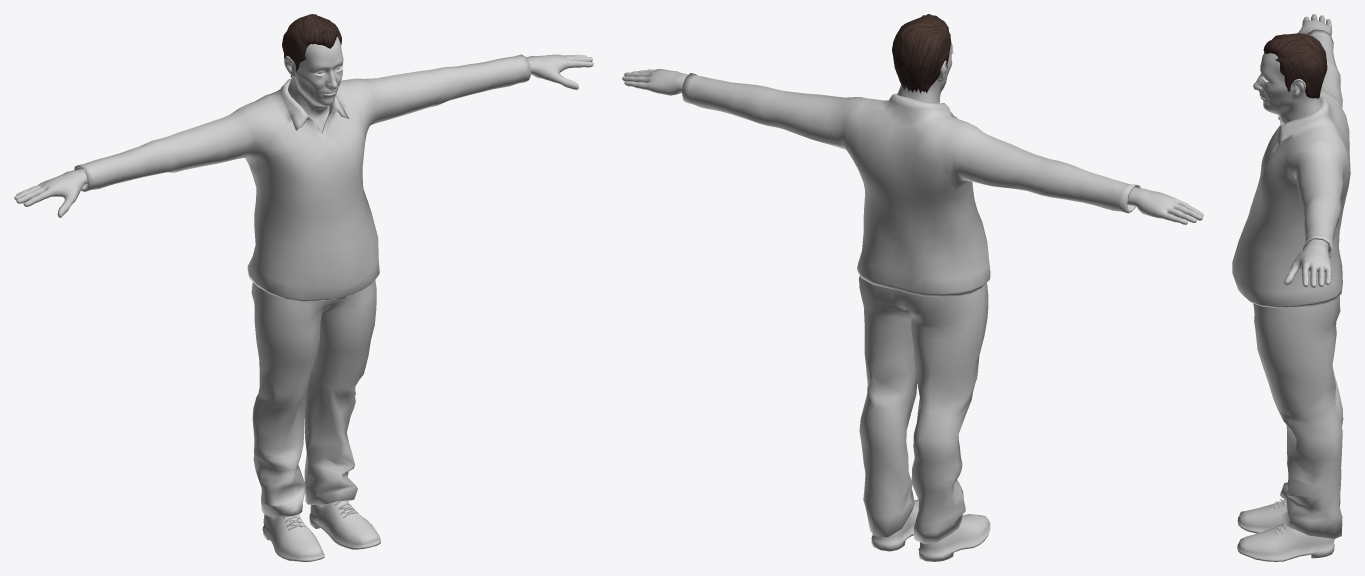
Rendered from A_M_Elegante.obj.
The picture shows the model from 3 angles, left to right: view 1: azimuth 30°, elevation 25°; view 2: azimuth 150°, elevation 25°; view 3: azimuth 270°, elevation 25°; orthographic projection. The views are drawn at different scales.
Visible parts, largest first — view 1: Tops, Bottoms, Body, Shoes, Hair; view 2: Tops, Bottoms, Body, Hair, Shoes; view 3: Tops, Bottoms, Body, Shoes, Hair.
Part boxes in pixels (<box>): Tops: <box>74,54,531,301</box>; Bottoms: <box>251,280,376,516</box>; Body: <box>14,37,593,217</box>; Shoes: <box>262,500,380,561</box>; Hair: <box>282,14,341,76</box>; Tops: <box>682,73,1140,297</box>; Bottoms: <box>859,276,988,544</box>; Body: <box>622,41,1203,224</box>; Hair: <box>892,14,950,93</box>; Shoes: <box>871,499,990,561</box>; Tops: <box>1232,29,1350,308</box>; Bottoms: <box>1253,296,1343,538</box>; Body: <box>1253,14,1331,287</box>; Shoes: <box>1237,499,1334,561</box>; Hair: <box>1263,33,1327,98</box>.
Size of the model in its own units: 211 by 182 by 38.59.
